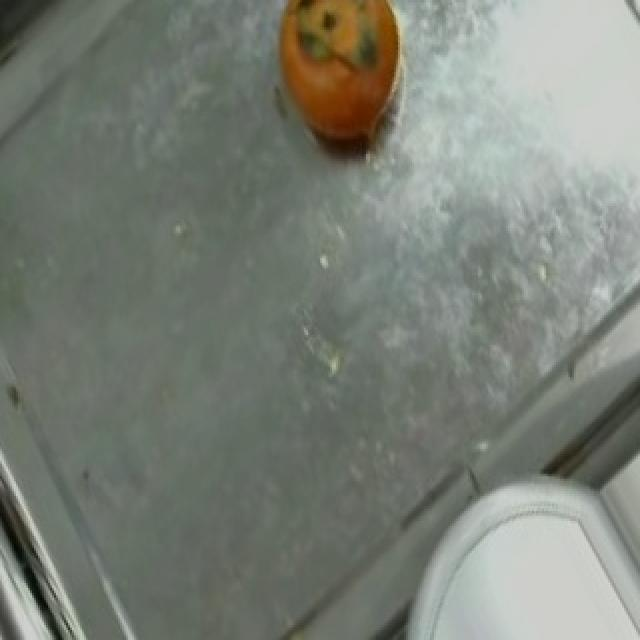Fruit: (410, 488, 640, 640), (256, 2, 428, 162)
